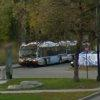Bus: (18, 39, 76, 69)
